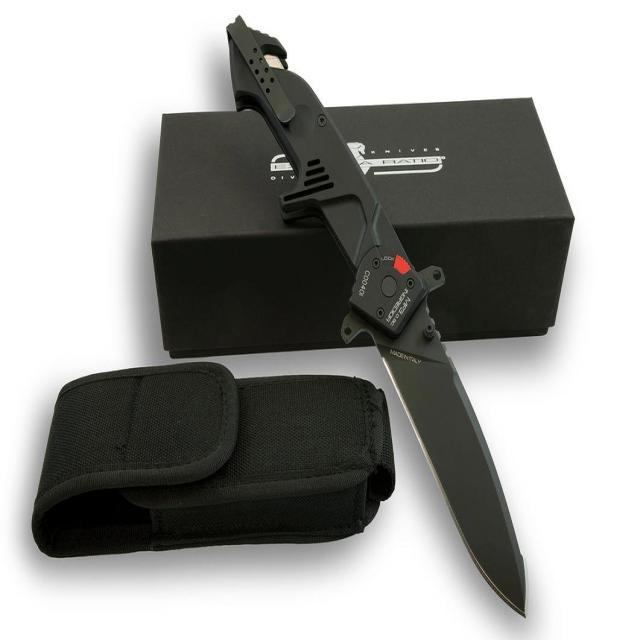knife: (224, 13, 534, 619)
